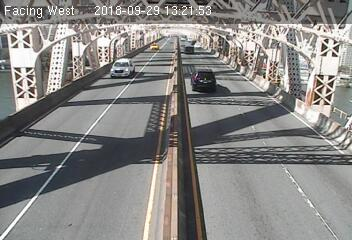car: (189, 67, 219, 96), (110, 58, 135, 80), (182, 44, 197, 56), (149, 40, 159, 50)
